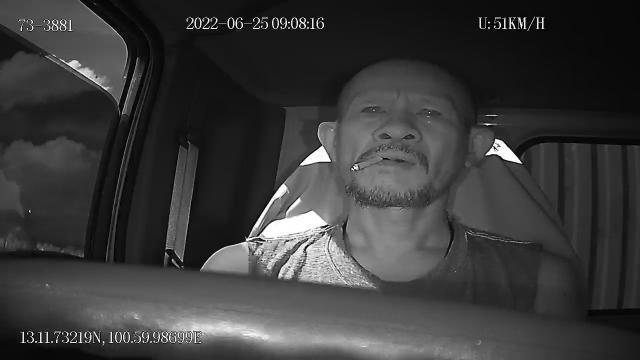SafeDriving: (409, 99, 448, 127), (353, 95, 392, 123)
Smoking: (351, 157, 383, 173)
